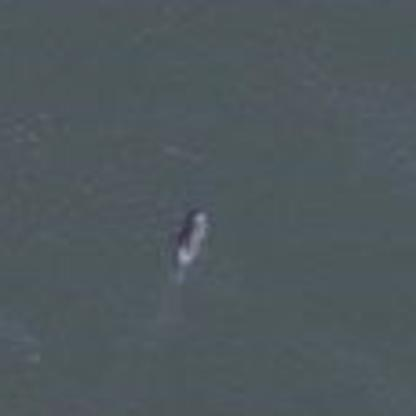ship: (168, 204, 212, 269)
